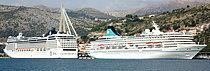Ship: (89, 30, 209, 62), (2, 30, 81, 62)
